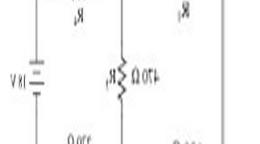resistor: (114, 53, 131, 99)
